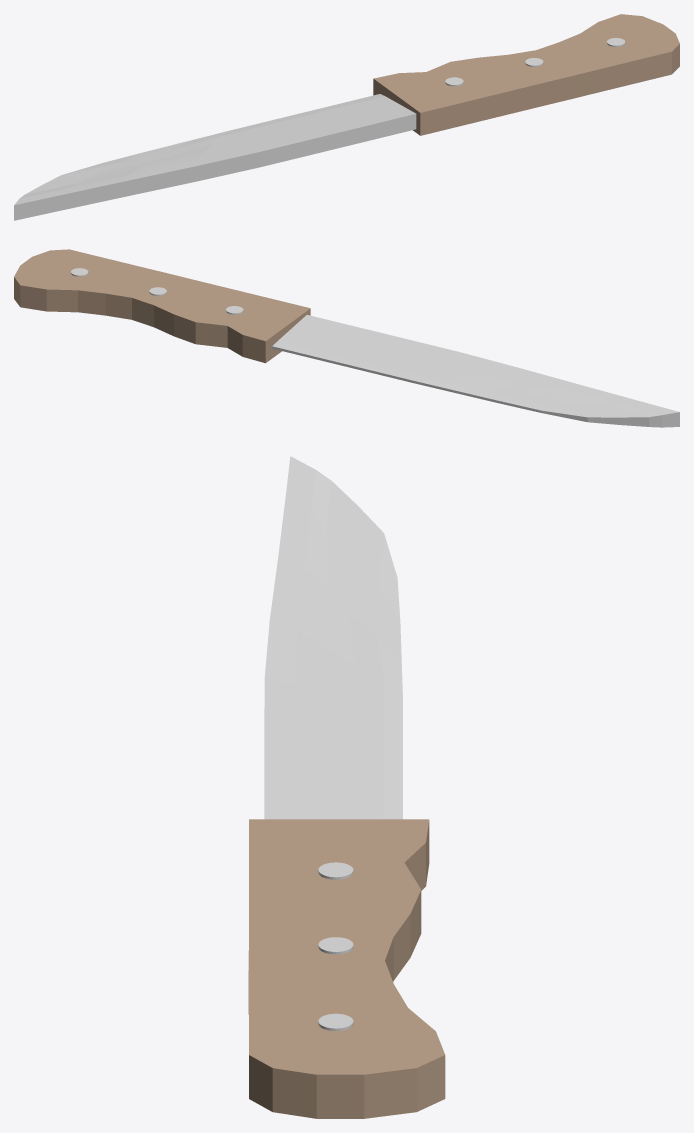
Rendered from knife.fbx.
3 views of the same model, one above another, from view 1: azimuth 30°, elevation 25°; view 2: azimuth 150°, elevation 25°; view 3: azimuth 270°, elevation 25° (orthographic). The views are drawn at different scales.
Visible parts, largest first — view 1: Cube; view 2: Cube; view 3: Cube.
Boxes of the visible parts, <box> form: Cube: <box>14,14,679,220</box>; Cube: <box>14,249,679,427</box>; Cube: <box>248,456,445,1118</box>.
Size of the model in its own units: 2703 by 99.02 by 359.
